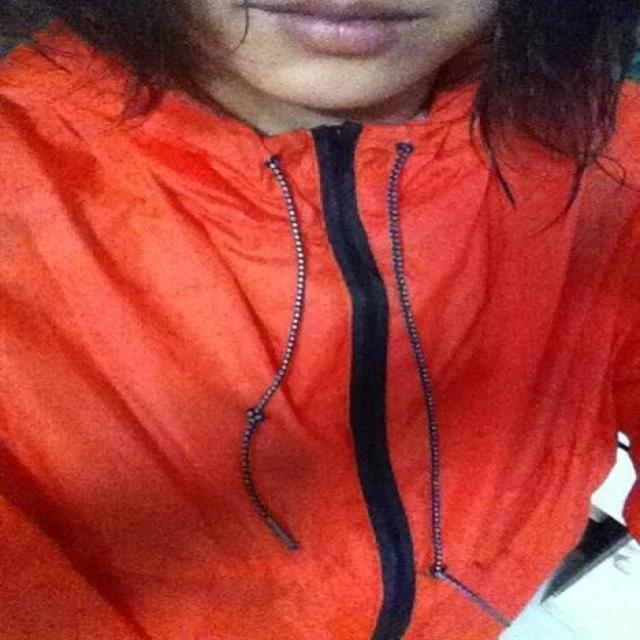long sleeve top: (1, 8, 639, 639)
